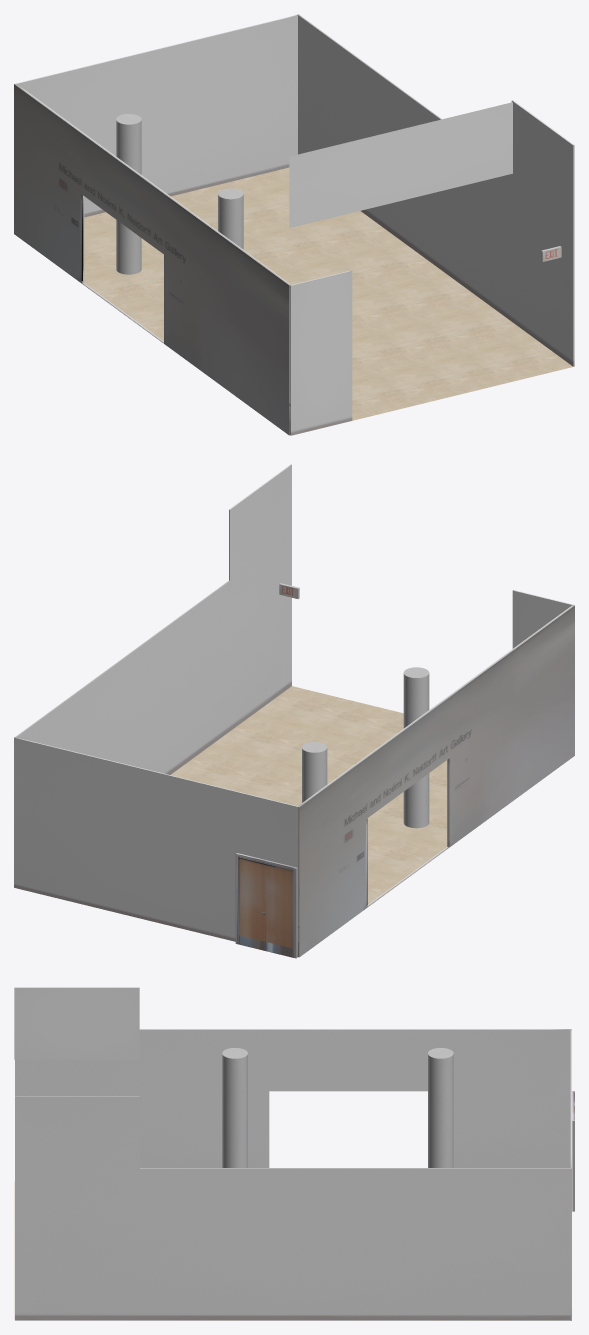
File: gallerymodel.glb
3 renders of one model, top to bottom at view 1: azimuth 30°, elevation 25°; view 2: azimuth 150°, elevation 25°; view 3: azimuth 270°, elevation 25°, orthographic.
Parts seen in each view (by area): view 1: backwall; view 2: backwall; view 3: backwall.
Part boxes in pixels (x1,y1,x2,y2): backwall: [14, 14, 574, 435]; backwall: [14, 464, 574, 958]; backwall: [14, 987, 574, 1320].
Bounding box in the file's own units: 23.28 × 17.3 × 39.28.
7 materials, 7 textured.
